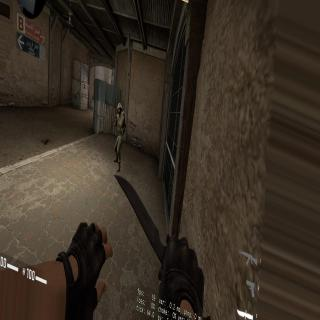CT-Body: (112, 98, 126, 173)
CT-Head: (117, 102, 122, 114)
